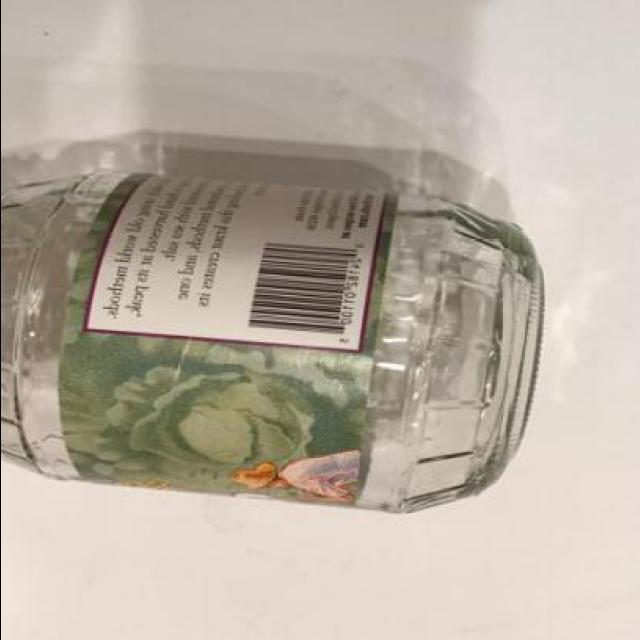kaca: (0, 171, 545, 516)
